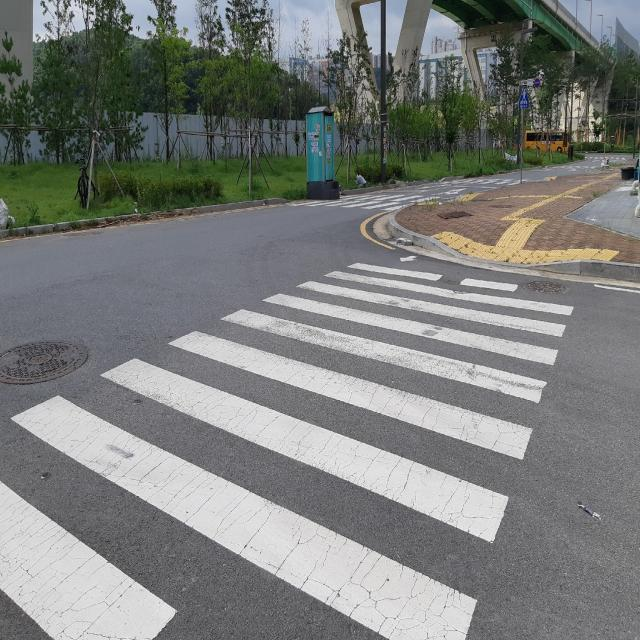횡단보도: (0, 254, 575, 639)
